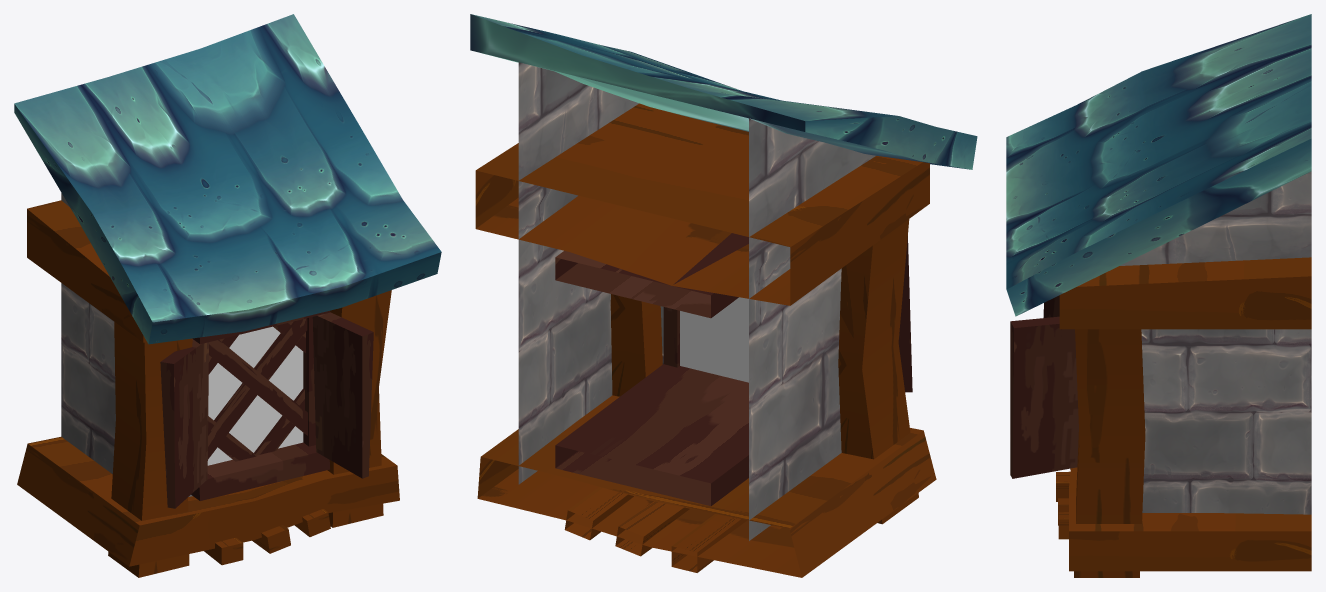
The model's file is SM_BLD_window_v01_01.fbx.
3 views of the same model, side by side, from view 1: azimuth 30°, elevation 25°; view 2: azimuth 150°, elevation 25°; view 3: azimuth 270°, elevation 25° (orthographic). The views are drawn at different scales.
Visible parts, largest first — view 1: SM_BLD_window_v01_01; view 2: SM_BLD_window_v01_01; view 3: SM_BLD_window_v01_01.
Part boxes in pixels (x1=…): SM_BLD_window_v01_01: x1=14, y1=14, x2=441, y2=577; SM_BLD_window_v01_01: x1=470, y1=14, x2=977, y2=577; SM_BLD_window_v01_01: x1=1006, y1=14, x2=1311, y2=577.
Size of the model in its own units: 239 by 332 by 202.
